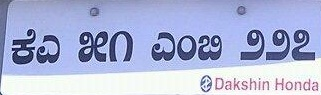character: (213, 75, 225, 91), (274, 75, 285, 90)
